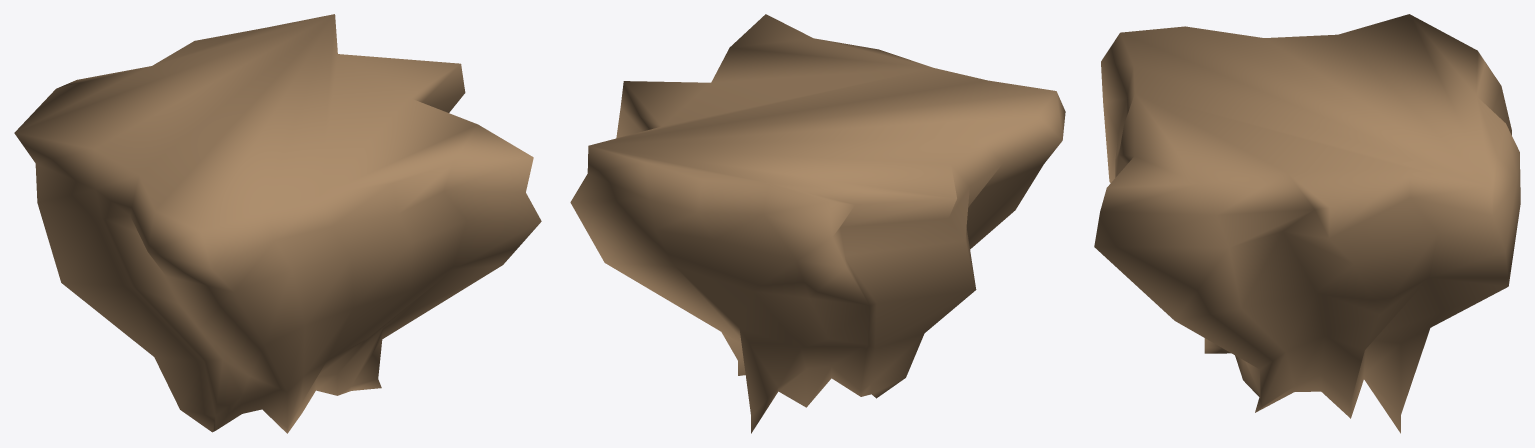
File: CLIFF_03_v01.fbx
3 views of the same model, side by side, from view 1: azimuth 30°, elevation 25°; view 2: azimuth 150°, elevation 25°; view 3: azimuth 270°, elevation 25° (orthographic). The views are drawn at different scales.
Visible parts, largest first — view 1: Connect; view 2: Connect; view 3: Connect.
Part boxes in pixels (<box>): Connect: <box>14,14,541,433</box>; Connect: <box>570,14,1065,433</box>; Connect: <box>1094,14,1520,433</box>.
Bounding box in the file's own units: 755 × 558 × 696.
